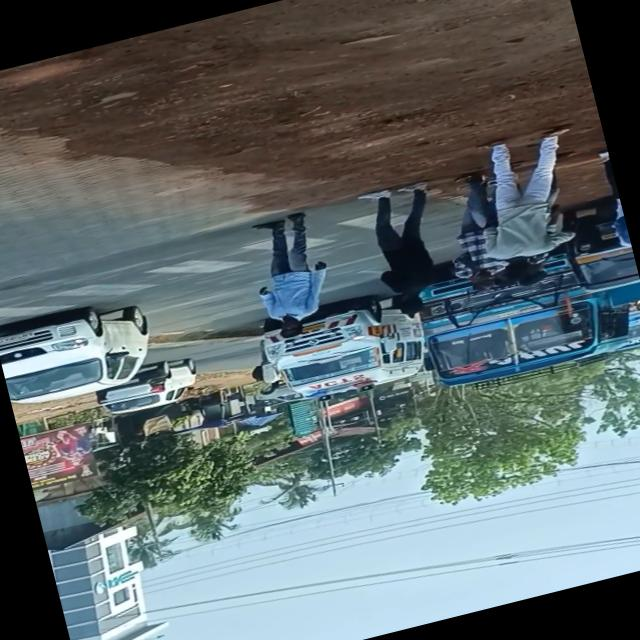ambulance: (260, 296, 427, 415)
